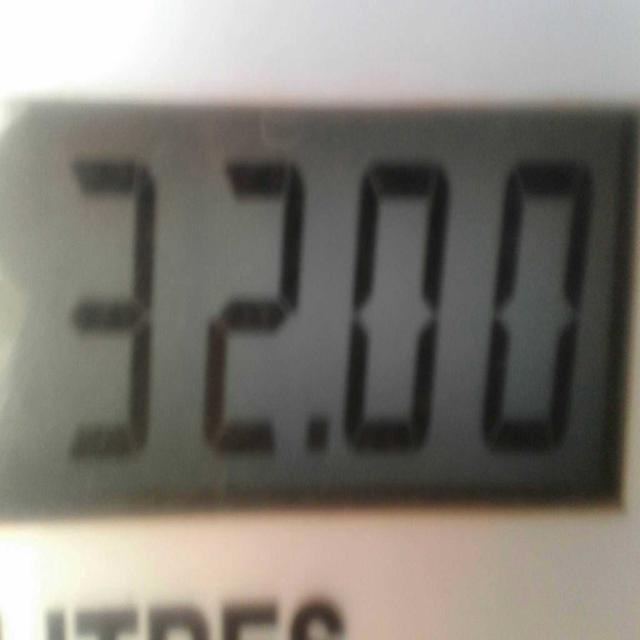.: (281, 401, 327, 490)
0: (474, 127, 595, 475), (327, 145, 457, 457)
2: (206, 138, 300, 470)
3: (48, 137, 178, 471)
